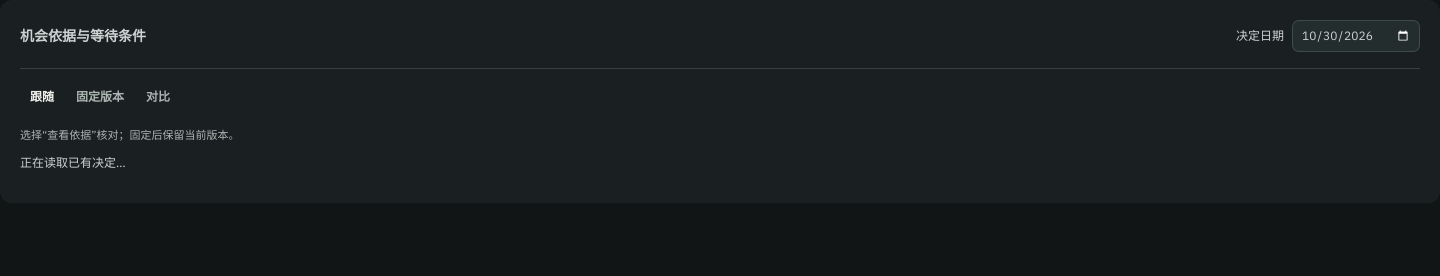
同版机会依据 › cannot replace a new date with an old late response
Step 1. Type "2026-09-28" into the date field named "机会决定日期" → (1356, 36), box [1292,20,1420,52]
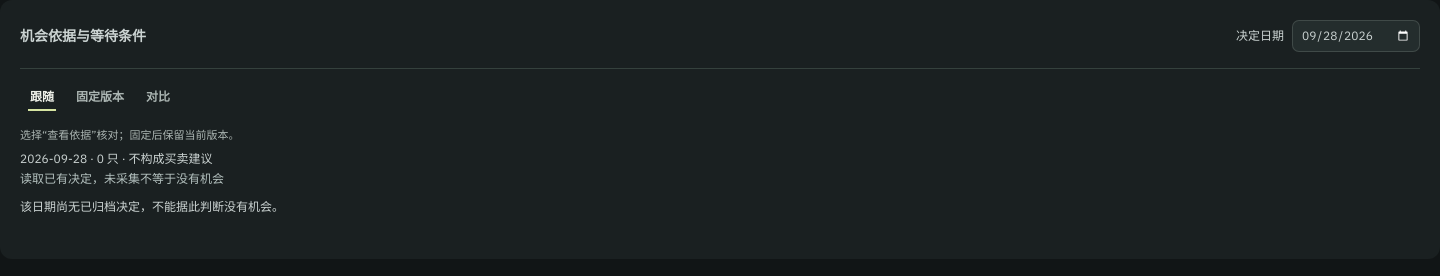
Result: the text "2026-09-28 · 0 只 · 不构成买卖建议" is shown at [20,151,212,166]
